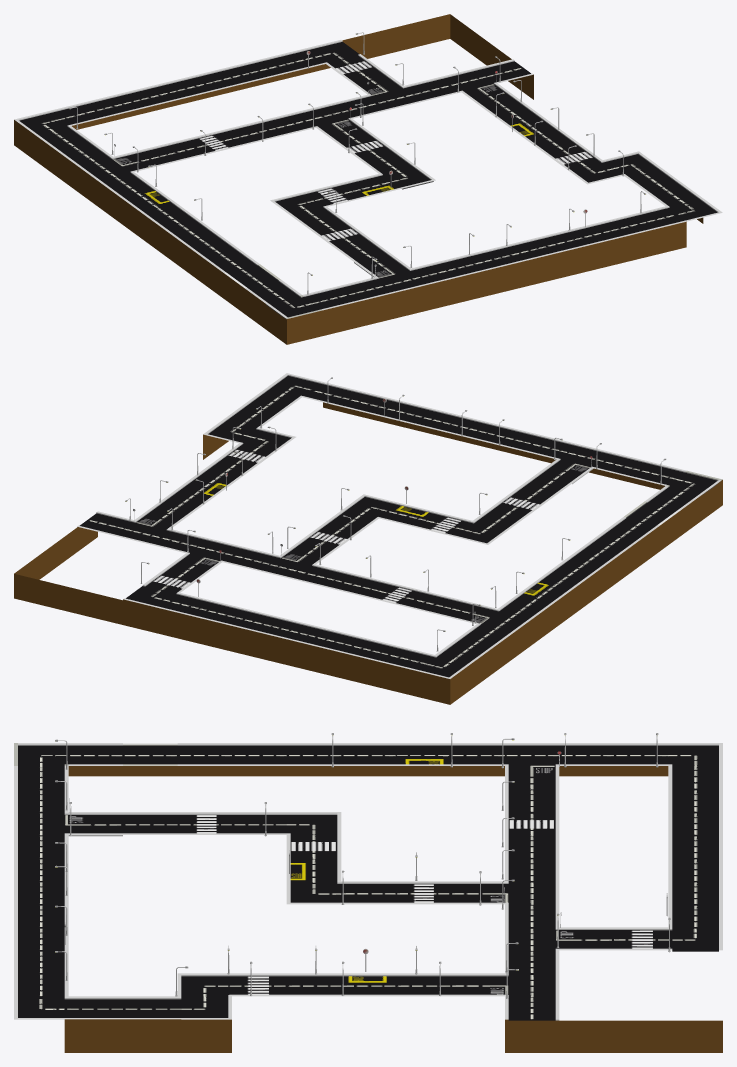
File: city_road.glb
3 views of the same model, one above another, from view 1: azimuth 30°, elevation 25°; view 2: azimuth 150°, elevation 25°; view 3: azimuth 270°, elevation 25° (orthographic). The views are drawn at different scales.
Parts seen in each view (by area): view 1: Plane.069, Plane.012, Plane.005, Plane.018, Plane.021, Plane.022, Plane.067, Plane.006, Plane.019, Plane.023, Plane.020, Plane.007 (+53 smaller); view 2: Plane.069, Plane.044, Plane.047, Plane.049, Plane.051, Plane.050, Plane.066, Plane.053, Plane.052, Plane.016, Plane.043, Plane.042 (+53 smaller); view 3: Plane.069, Plane.072, Plane.073, Plane.064, Plane.080, Plane.015, Plane.013, Plane.001, Plane.004, Plane.014, Plane.002, Plane.003 (+53 smaller).
Part boxes in pixels (x1,y1,x2,y2): Plane.069: [304, 14, 512, 84]; Plane.012: [266, 295, 323, 344]; Plane.005: [302, 286, 359, 335]; Plane.018: [411, 259, 468, 309]; Plane.021: [520, 233, 577, 282]; Plane.022: [557, 224, 613, 273]; Plane.067: [629, 206, 686, 255]; Plane.006: [339, 277, 395, 326]; Plane.019: [448, 250, 504, 300]; Plane.023: [593, 215, 650, 264]; Plane.020: [484, 242, 541, 291]; Plane.007: [377, 270, 432, 318]; Plane.069: [14, 528, 178, 633]; Plane.044: [416, 656, 471, 704]; Plane.047: [377, 646, 437, 696]; Plane.049: [341, 637, 397, 686]; Plane.051: [268, 619, 325, 669]; Plane.050: [304, 628, 361, 677]; Plane.066: [159, 593, 216, 642]; Plane.053: [195, 602, 252, 651]; Plane.052: [232, 610, 288, 660]; Plane.016: [498, 593, 555, 642]; Plane.043: [435, 639, 492, 688]; Plane.042: [456, 624, 513, 673]; Plane.069: [559, 927, 722, 1052]; Plane.072: [64, 996, 122, 1052]; Plane.073: [123, 996, 181, 1052]; Plane.064: [505, 996, 559, 1052]; Plane.080: [181, 996, 231, 1052]; Plane.015: [395, 743, 450, 776]; Plane.013: [286, 743, 341, 776]; Plane.001: [123, 743, 177, 776]; Plane.004: [232, 743, 286, 776]; Plane.014: [341, 743, 395, 776]; Plane.002: [177, 743, 231, 776]; Plane.003: [68, 743, 122, 776].
Bounding box in the file's own units: 120 × 13.04 × 130.
Materials: 4 (3 with a texture image).
